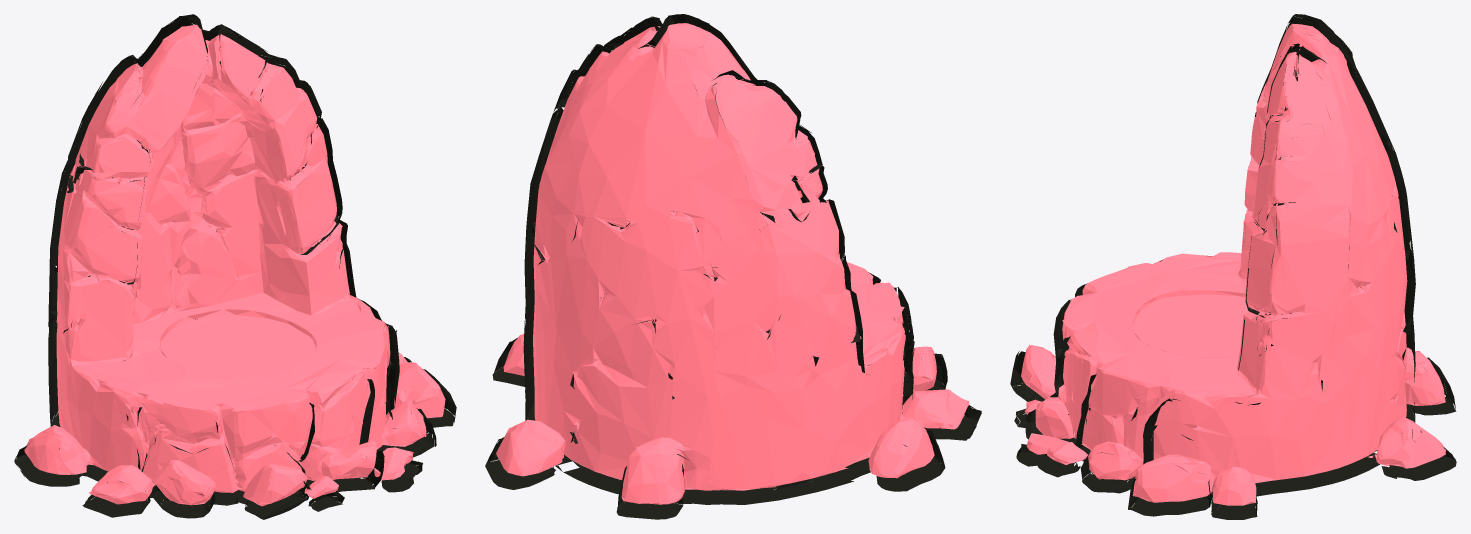
Rendered from df_v2_corrupted_altar_c_a.glb.
3 views of the same model, side by side, from view 1: azimuth 30°, elevation 25°; view 2: azimuth 150°, elevation 25°; view 3: azimuth 270°, elevation 25° (orthographic). The views are drawn at different scales.
Parts seen in each view (by area): view 1: corrupted_altar_c_mesh_01, corrupted_altar_c_mesh_01_ink_outline; view 2: corrupted_altar_c_mesh_01, corrupted_altar_c_mesh_01_ink_outline; view 3: corrupted_altar_c_mesh_01, corrupted_altar_c_mesh_01_ink_outline.
Boxes of the visible parts, x1=… form: corrupted_altar_c_mesh_01: x1=24, y1=24, x2=445, y2=506; corrupted_altar_c_mesh_01_ink_outline: x1=14, y1=14, x2=456, y2=519; corrupted_altar_c_mesh_01: x1=496, y1=23, x2=969, y2=504; corrupted_altar_c_mesh_01_ink_outline: x1=485, y1=14, x2=981, y2=519; corrupted_altar_c_mesh_01: x1=1021, y1=23, x2=1445, y2=505; corrupted_altar_c_mesh_01_ink_outline: x1=1010, y1=14, x2=1456, y2=519.
Size of the model in its own units: 1.89 by 1.79 by 1.8.
